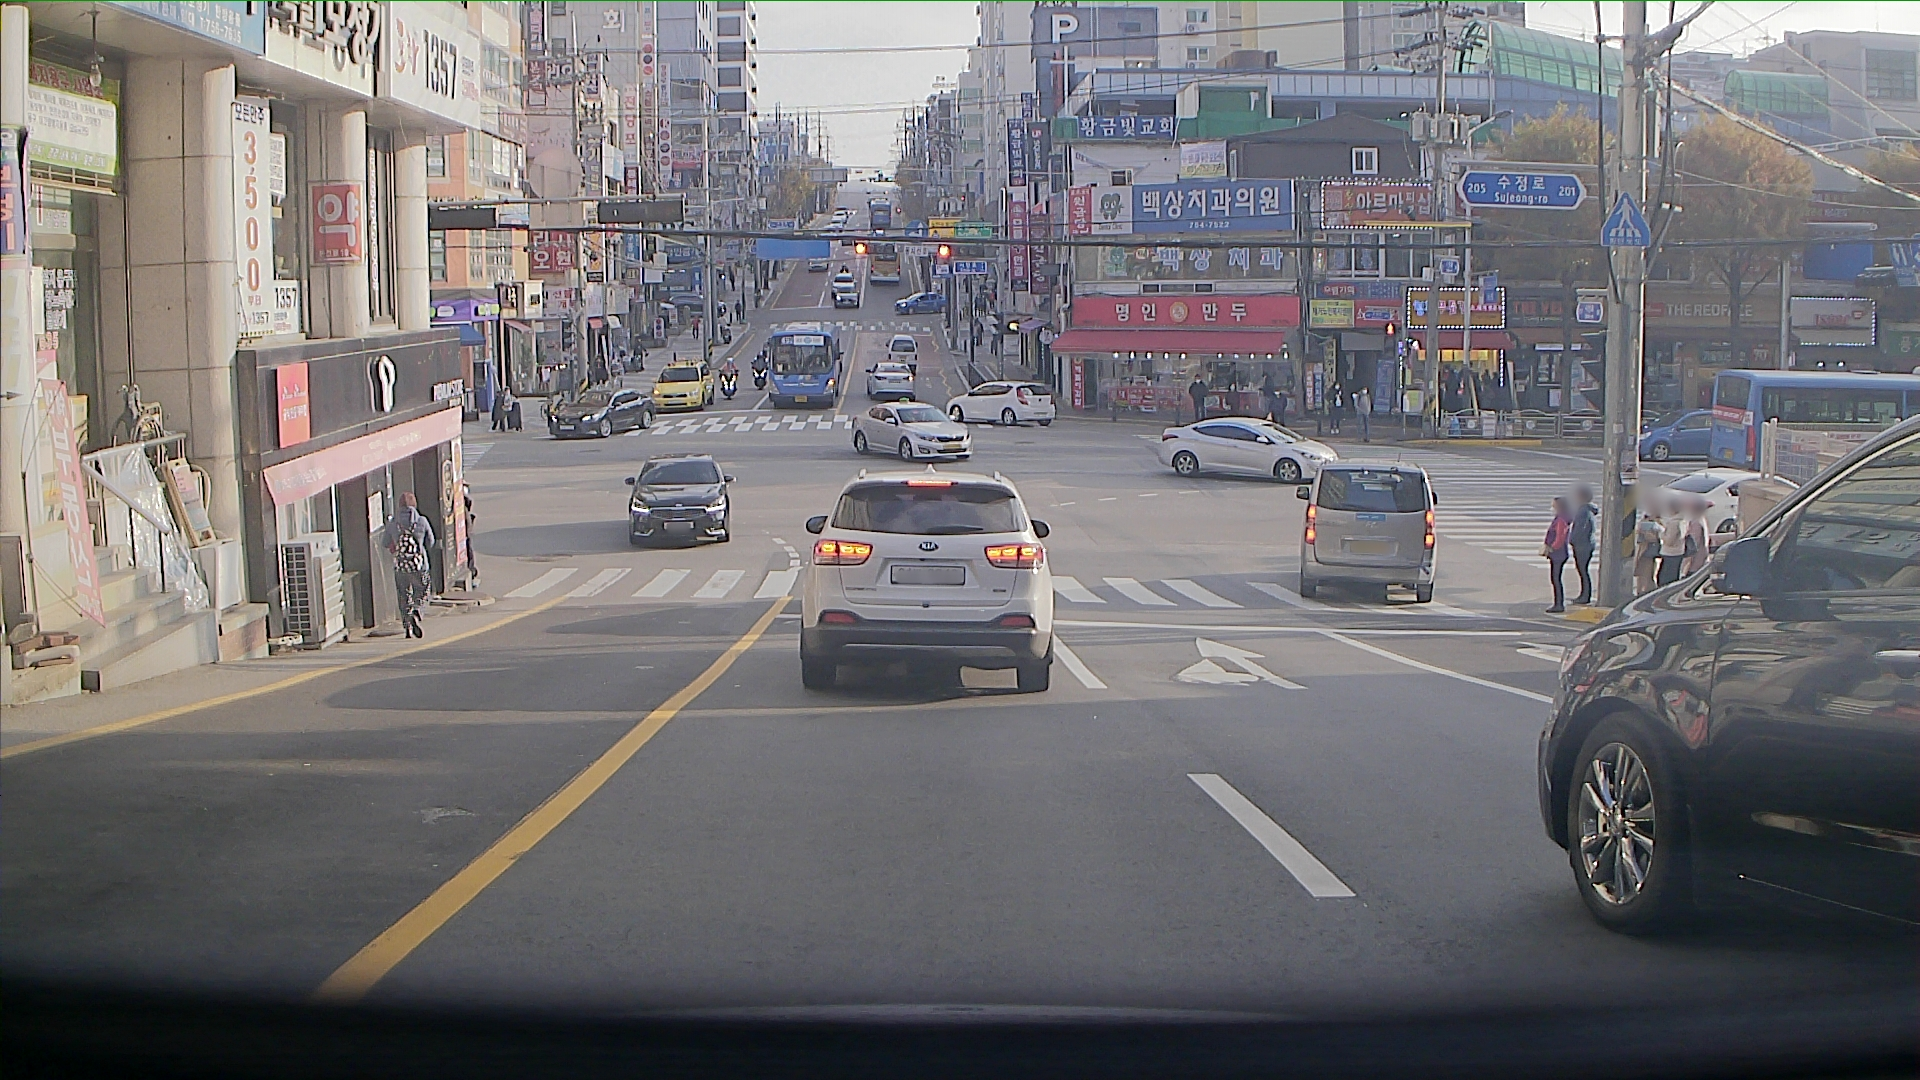trafficLight: (938, 244, 986, 262), (848, 241, 897, 258)
